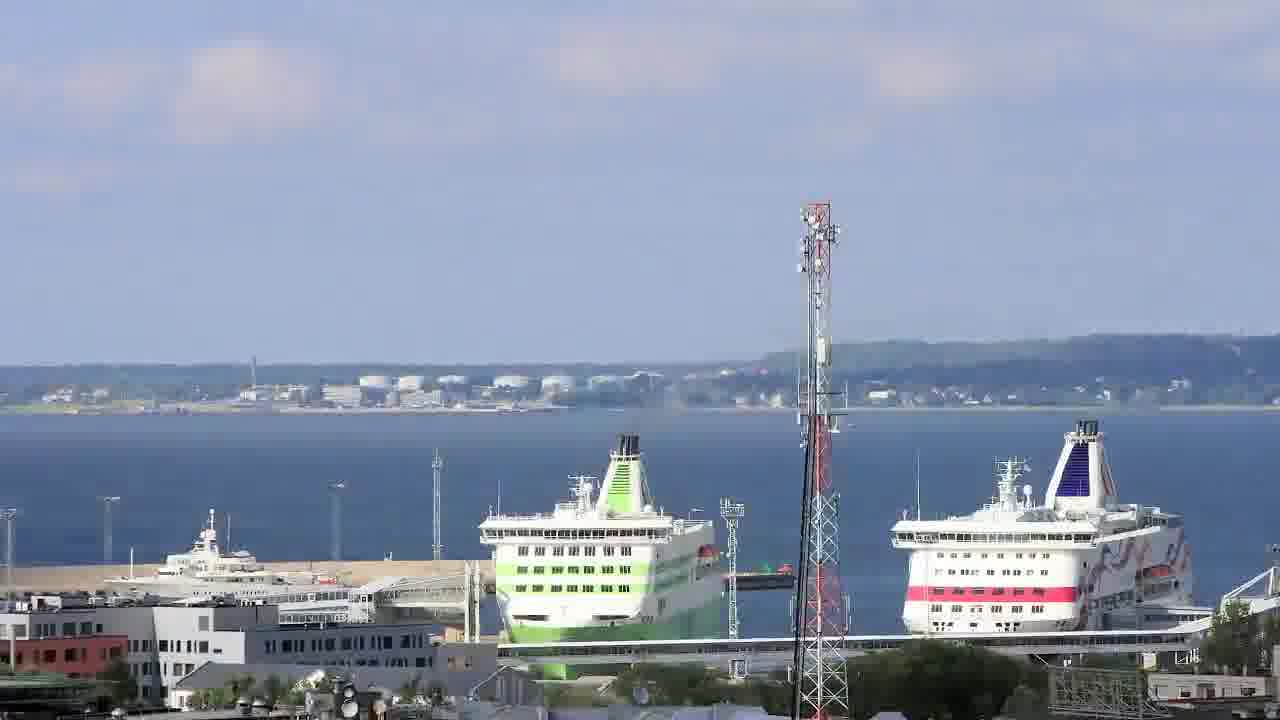type-2: (813, 398, 849, 444)
type-3: (868, 415, 1225, 638), (476, 433, 741, 670), (84, 511, 353, 609)
